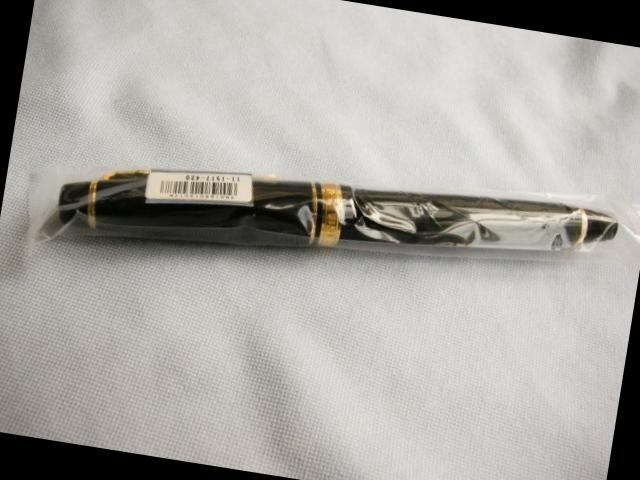PEN: (55, 162, 629, 286)
